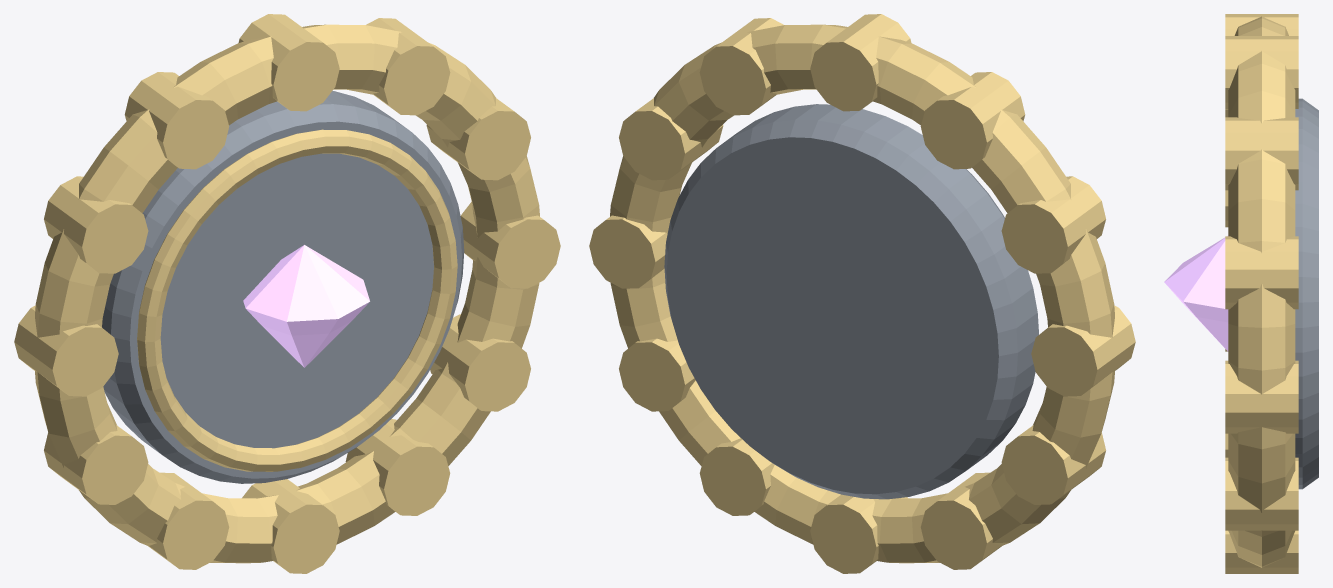
Rendered from lhen_relic.gltf.
3 views of the same model, side by side, from view 1: azimuth 30°, elevation 25°; view 2: azimuth 150°, elevation 25°; view 3: azimuth 270°, elevation 25° (orthographic). The views are drawn at different scales.
Visible parts, largest first — view 1: lhen_tambourine_relic_review; view 2: lhen_tambourine_relic_review; view 3: lhen_tambourine_relic_review.
Part boxes in pixels (<box>): lhen_tambourine_relic_review: <box>14,14,560,573</box>; lhen_tambourine_relic_review: <box>589,14,1135,573</box>; lhen_tambourine_relic_review: <box>1164,14,1318,573</box>.
Bounding box in the file's own units: 0.69 × 0.69 × 0.19.
